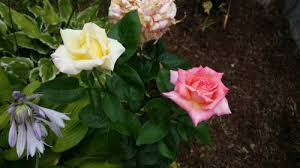lale: (154, 56, 238, 132), (45, 18, 136, 85)
